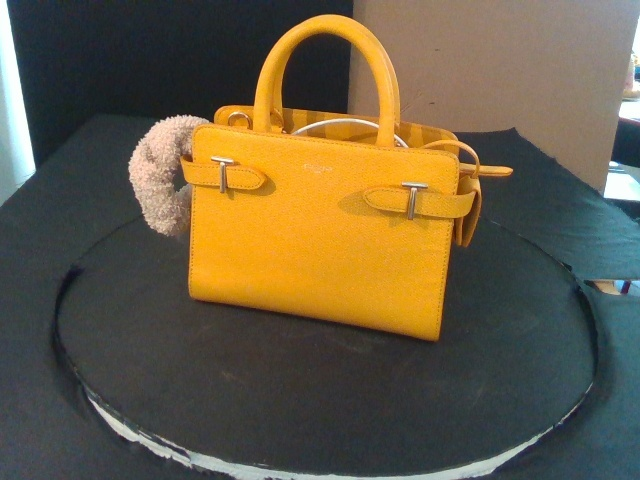bag: (186, 12, 461, 343)
